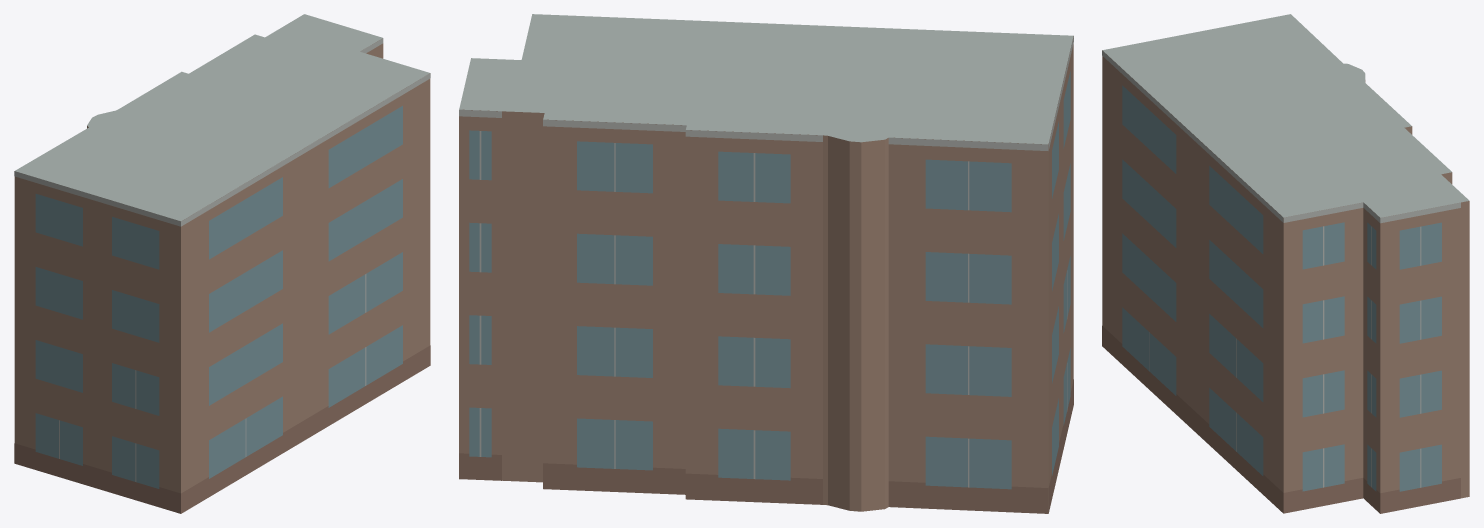
File: survey-upis-32759382.glb
The picture shows the model from 3 angles, left to right: view 1: azimuth 30°, elevation 25°; view 2: azimuth 150°, elevation 25°; view 3: azimuth 270°, elevation 25°; orthographic projection. The views are drawn at different scales.
Visible parts, largest first — view 1: survey-upis-32759382.tmp; view 2: survey-upis-32759382.tmp; view 3: survey-upis-32759382.tmp.
Part boxes in pixels (x1=…): survey-upis-32759382.tmp: x1=14, y1=14, x2=430, y2=513; survey-upis-32759382.tmp: x1=459, y1=14, x2=1073, y2=513; survey-upis-32759382.tmp: x1=1102, y1=14, x2=1469, y2=513.
Size of the model in its own units: 19.66 by 13.3 by 14.97.
